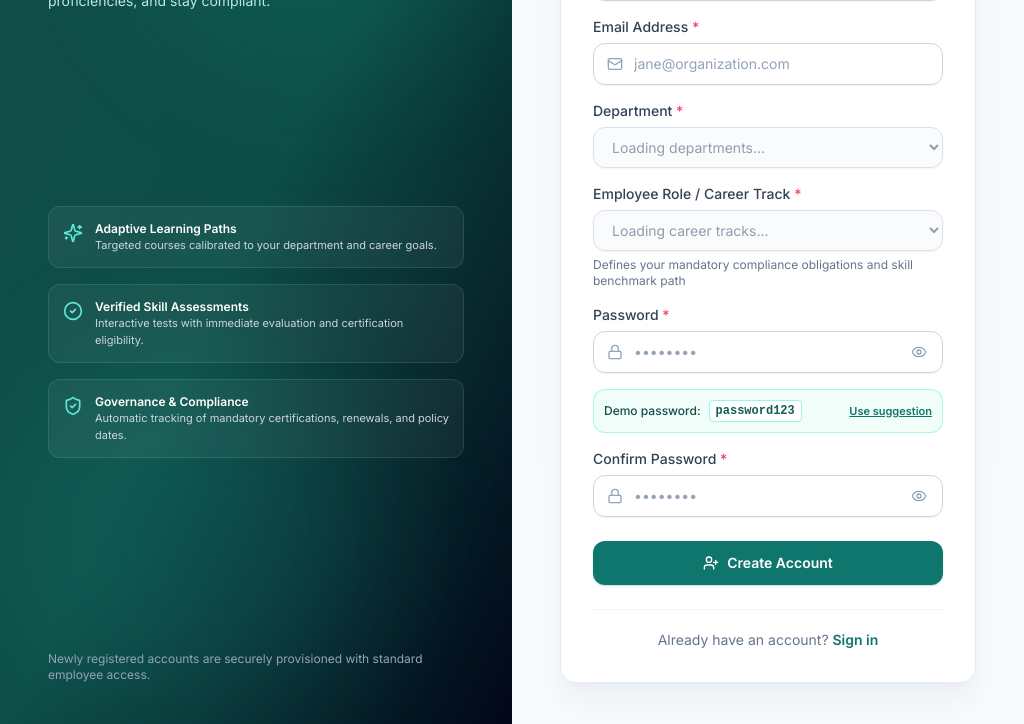
RegisterPage (Scenarios 17-23) › 18. validates that name, email, password, and confirmation are required
(page scrolled)
Click the button "Create Account". click: (768, 563)
box: [593,541,943,585]
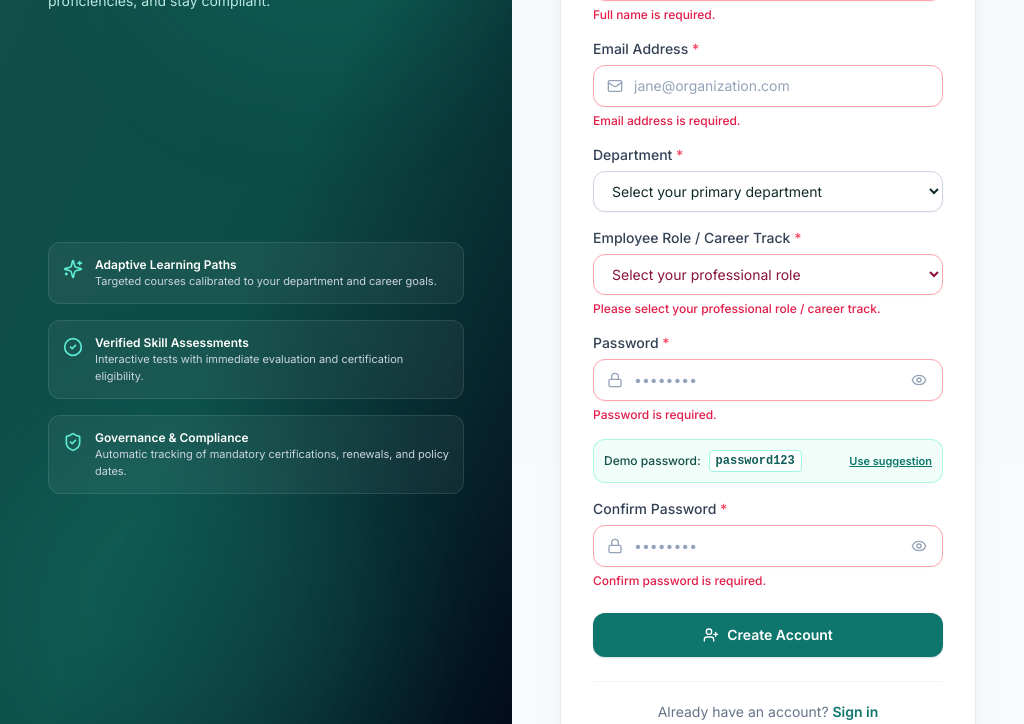
Check: the text "Full name is required." is shown, box [593,7,715,22]
Check: the text "Email address is required." is shown, box [593,113,740,128]
Check: the text "Password is required." is shown, box [593,407,717,422]
